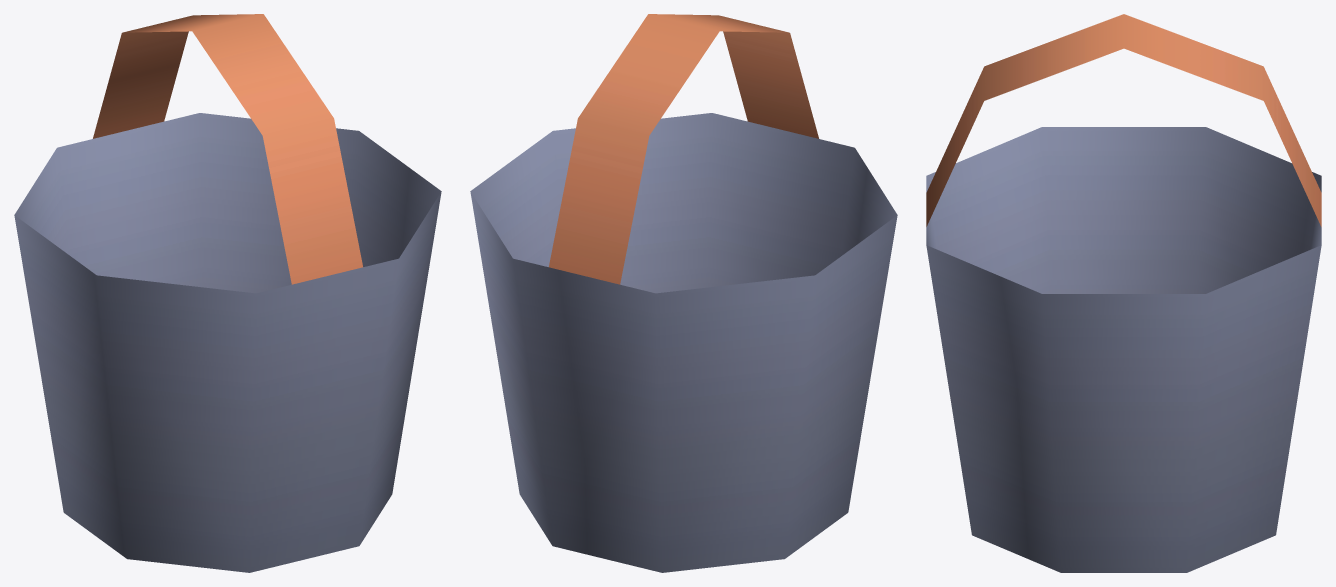
Rendered from bucket.glb.
3 renders of one model, left to right at view 1: azimuth 30°, elevation 25°; view 2: azimuth 150°, elevation 25°; view 3: azimuth 270°, elevation 25°, orthographic.
Parts seen in each view (by area): view 1: bucket; view 2: bucket; view 3: bucket.
Boxes of the visible parts, bbox=[...] form: bucket: bbox=[14, 14, 441, 572]; bucket: bbox=[470, 14, 897, 572]; bucket: bbox=[926, 14, 1321, 572].
Bounding box in the file's own units: 0.1441 × 0.1921 × 0.1441.
Materials: 1 (1 with a texture image).
